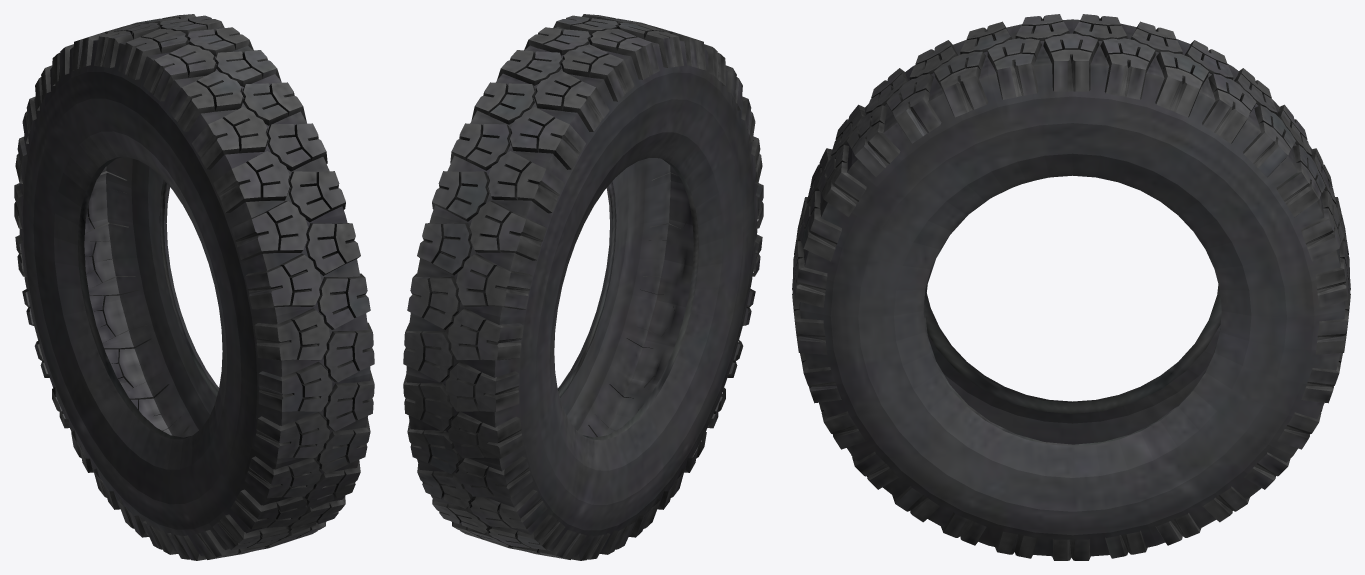
Rendered from Rubber.fbx.
3 views of the same model, side by side, from view 1: azimuth 30°, elevation 25°; view 2: azimuth 150°, elevation 25°; view 3: azimuth 270°, elevation 25° (orthographic). The views are drawn at different scales.
Visible parts, largest first — view 1: Object_wheelsCompleteMap.jpg; view 2: Object_wheelsCompleteMap.jpg; view 3: Object_wheelsCompleteMap.jpg.
Part boxes in pixels (x1,y1,x2,y2): Object_wheelsCompleteMap.jpg: [14, 14, 374, 560]; Object_wheelsCompleteMap.jpg: [403, 14, 763, 560]; Object_wheelsCompleteMap.jpg: [792, 14, 1350, 560].
Size of the model in its own units: 0.6094 by 2.5 by 2.5.
Materials: 1 (1 with a texture image).
